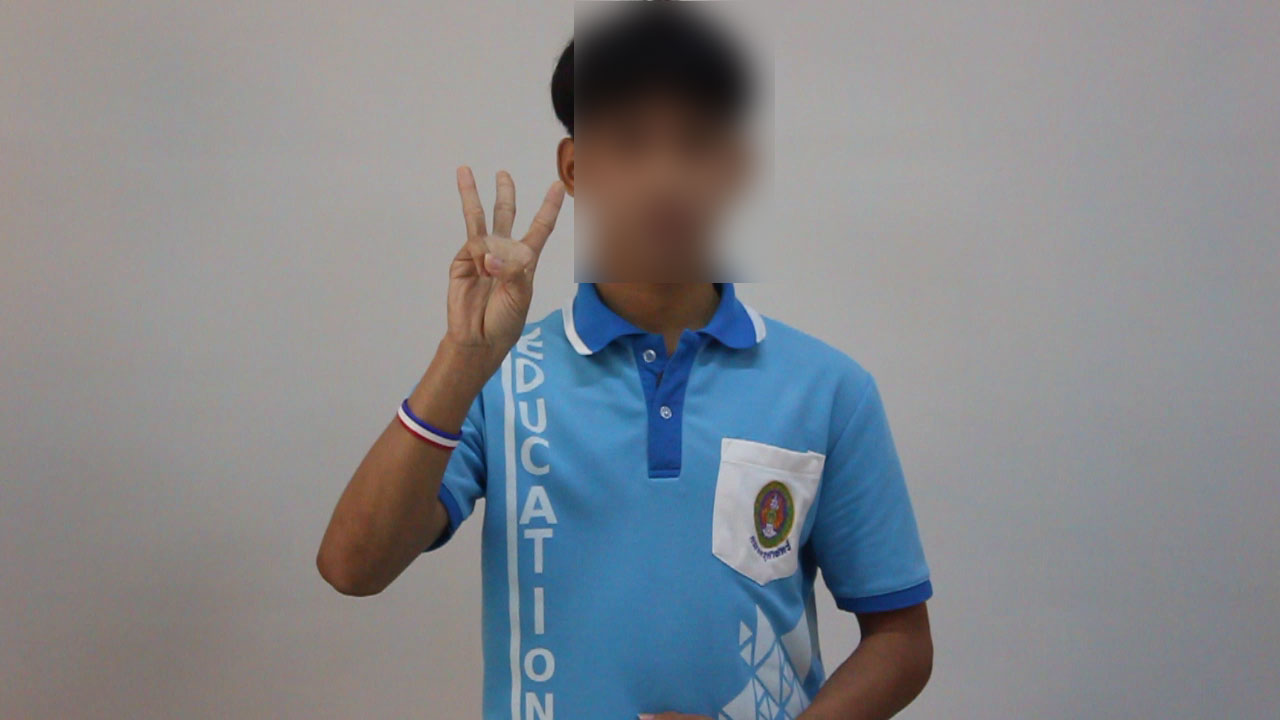wor: (440, 159, 570, 370)
